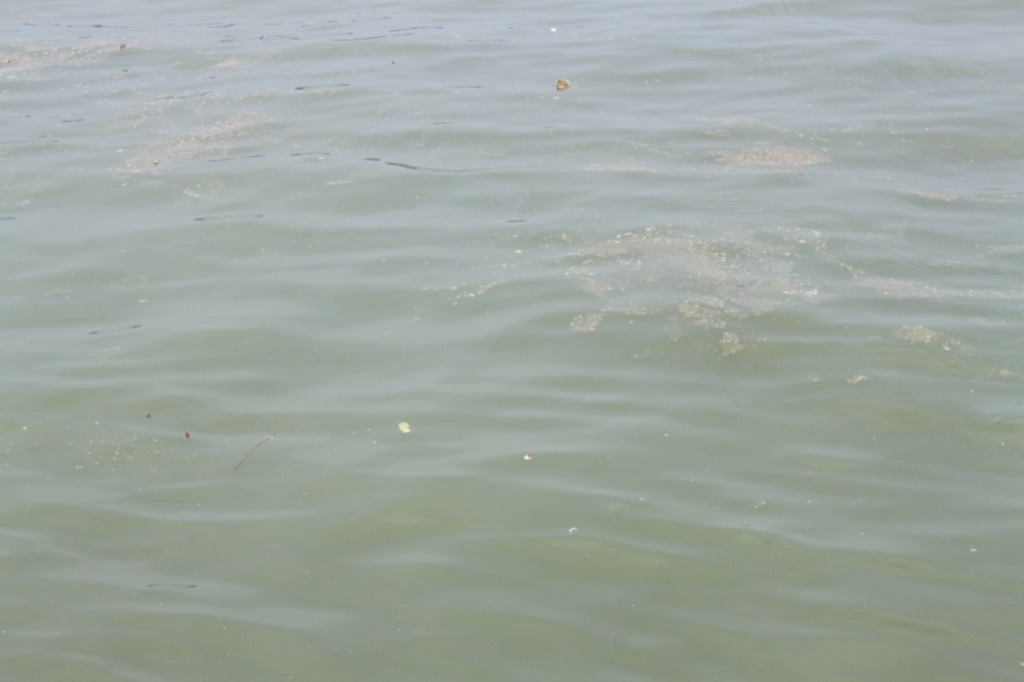organic: (227, 426, 284, 475), (135, 406, 165, 429), (176, 421, 198, 450)
plastic: (391, 407, 423, 449), (548, 69, 583, 99), (515, 447, 540, 469), (544, 19, 566, 41)
